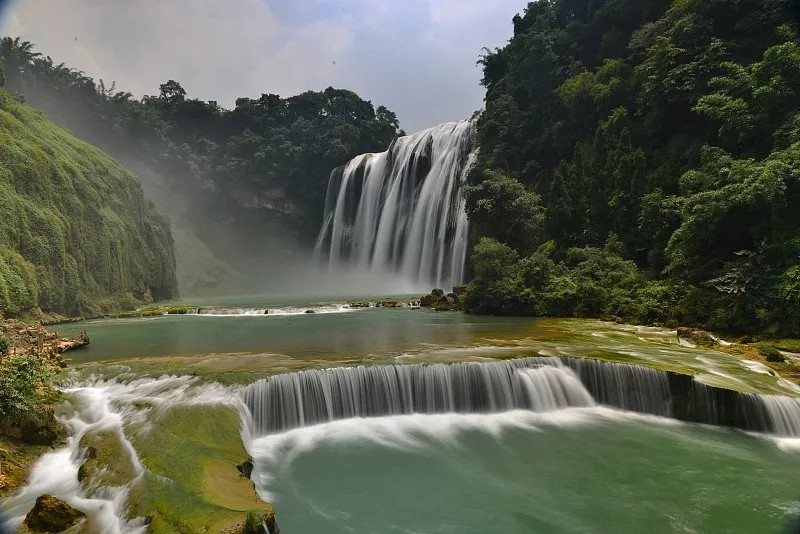Huangguoshu: (315, 120, 473, 295)
